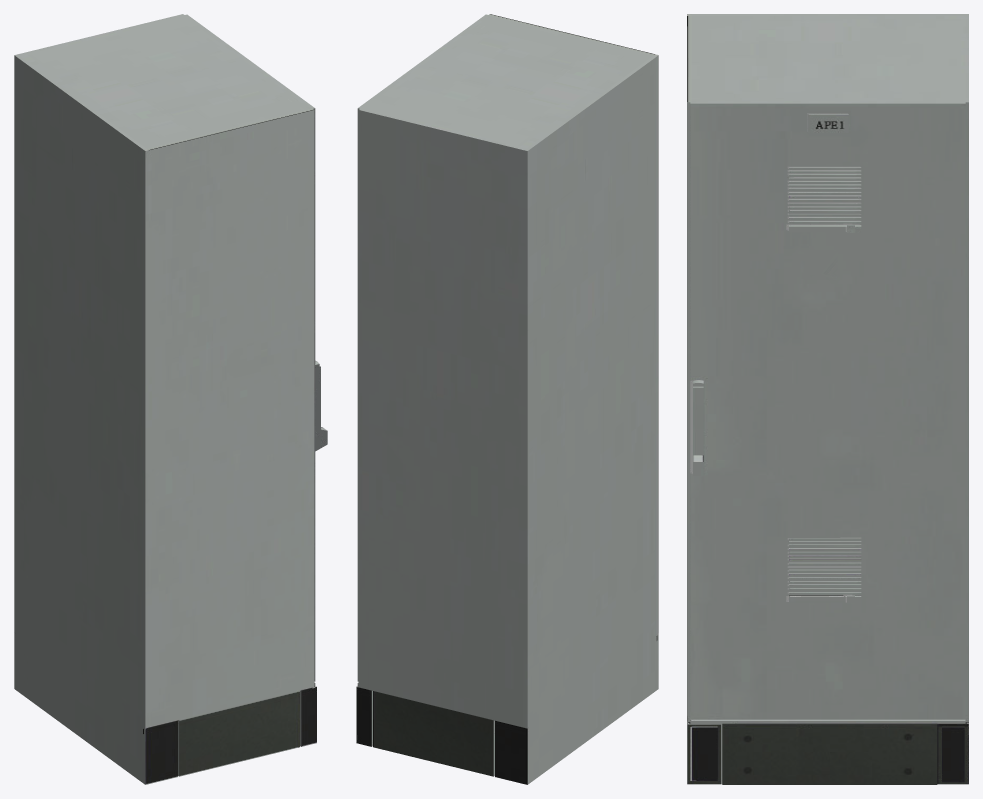
Rendered from set6oldv3.obj.
3 renders of one model, left to right at view 1: azimuth 30°, elevation 25°; view 2: azimuth 150°, elevation 25°; view 3: azimuth 270°, elevation 25°, orthographic. The views are drawn at different scales.
Visible parts, largest first — view 1: set6_Model; view 2: set6_Model; view 3: set6_Model.
Boxes of the visible parts, x1,y1,x2,y2 form: set6_Model: (14, 14, 327, 784); set6_Model: (356, 14, 658, 784); set6_Model: (687, 14, 968, 784).
Bounding box in the file's own units: 0.611 × 2 × 0.7504.
1 material, 1 textured.
